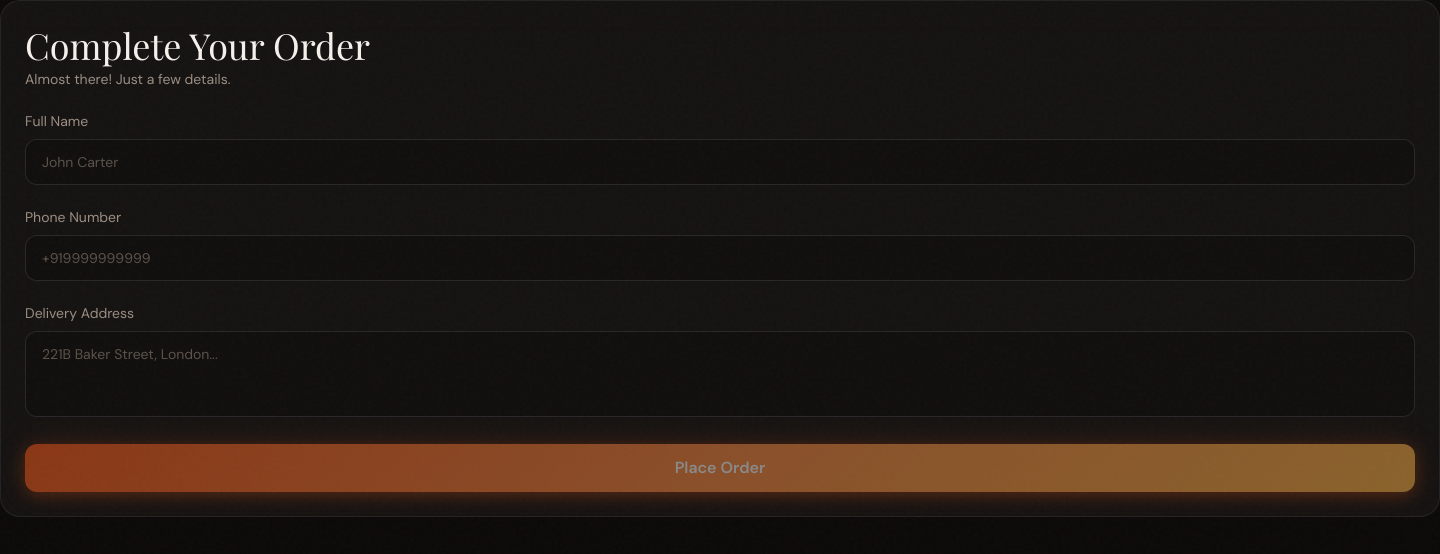
it: CheckoutForm › shows validation for empty name
This screenshot has width=1440, height=554.
Type "A" into the field with placeholder "John Carter" at coordinates (720, 162), box [25, 139, 1415, 185]
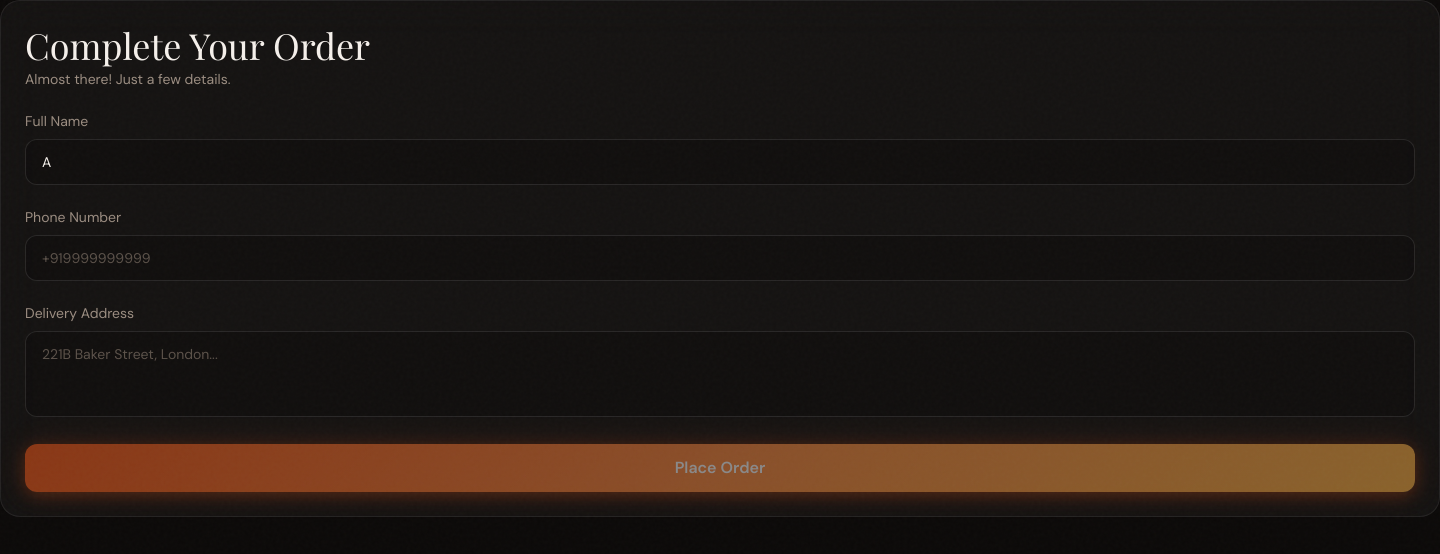
Leave the field with placeholder "John Carter", box [25, 139, 1415, 185]
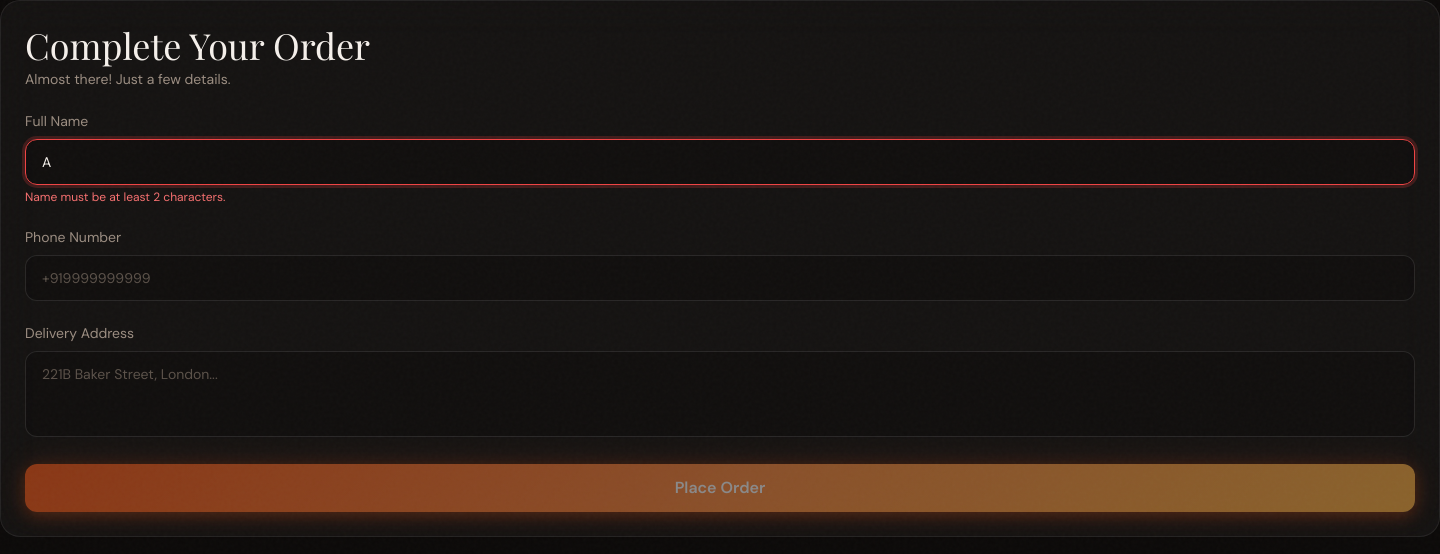
Now the text "Name must be at least 2 characters." is shown, box [25, 189, 226, 205]
